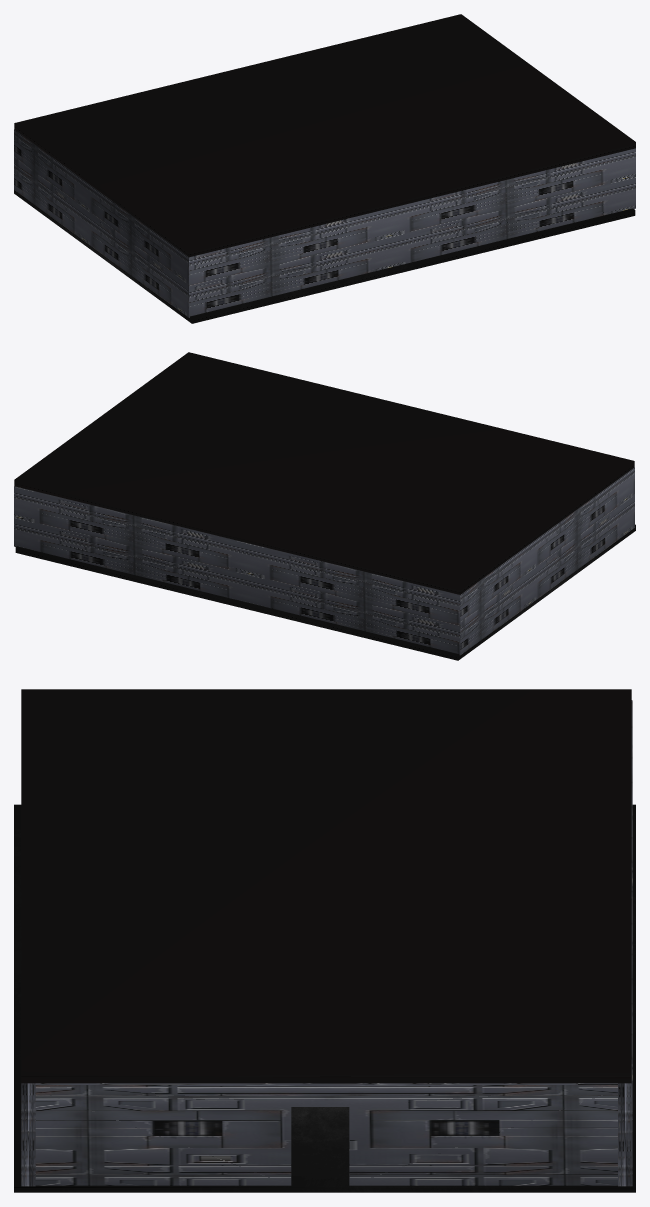
The model's file is paretsHabitacio1.fbx.
The picture shows the model from 3 angles, top to bottom: view 1: azimuth 30°, elevation 25°; view 2: azimuth 150°, elevation 25°; view 3: azimuth 270°, elevation 25°; orthographic projection. The views are drawn at different scales.
Visible parts, largest first — view 1: Cube_009, Cube_002, Cube_005, Cube_001; view 2: Cube_009, Cube_003, Cube_005, Cube_001; view 3: Cube_009, Cube, Cube_001, Cube_003, Cube_002.
Boxes of the visible parts, x1=… form: Cube_009: x1=14, y1=14, x2=635, y2=257; Cube_002: x1=189, y1=148, x2=635, y2=317; Cube_005: x1=14, y1=129, x2=188, y2=317; Cube_001: x1=14, y1=190, x2=635, y2=323; Cube_009: x1=14, y1=352, x2=634, y2=594; Cube_003: x1=14, y1=486, x2=460, y2=655; Cube_005: x1=460, y1=467, x2=634, y2=654; Cube_001: x1=15, y1=524, x2=635, y2=660; Cube_009: x1=21, y1=689, x2=631, y2=1083; Cube: x1=35, y1=1083, x2=617, y2=1185; Cube_001: x1=14, y1=804, x2=635, y2=1192; Cube_003: x1=618, y1=700, x2=632, y2=1186; Cube_002: x1=21, y1=1083, x2=35, y2=1186.
Size of the model in its own units: 31.02 by 4.75 by 21.4.
